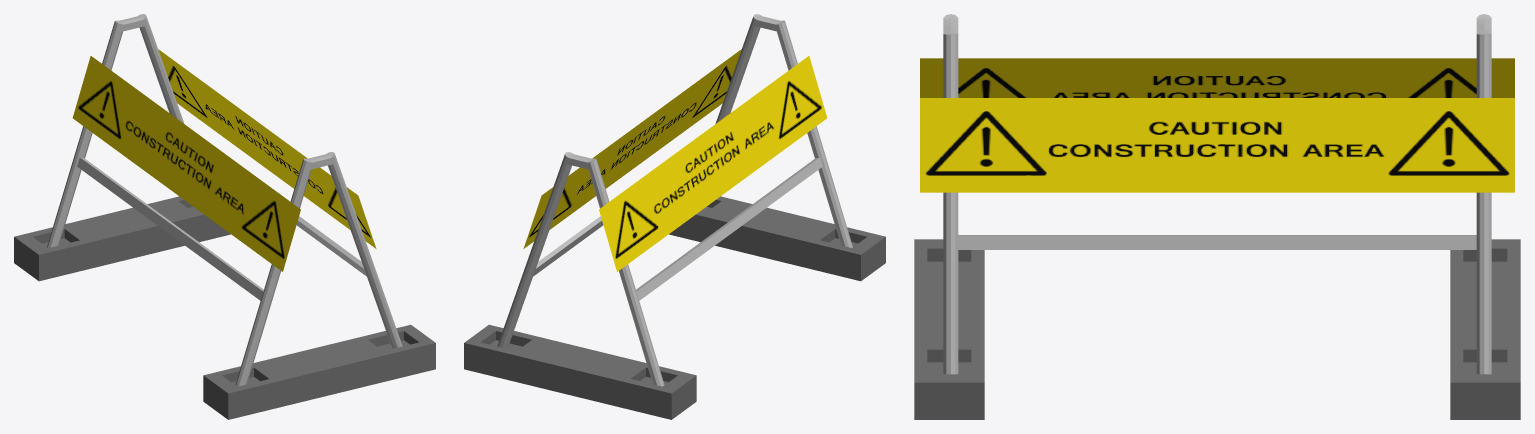
Rendered from absperrung_07.fbx.
The picture shows the model from 3 angles, left to right: view 1: azimuth 30°, elevation 25°; view 2: azimuth 150°, elevation 25°; view 3: azimuth 270°, elevation 25°; orthographic projection. The views are drawn at different scales.
Visible parts, largest first — view 1: pPlane1, gestell, pCube2, pCube1, pPlane2; view 2: pPlane1, gestell, pCube1, pCube2, pPlane2; view 3: pPlane2, pPlane1, gestell, pCube2, pCube1.
Part boxes in pixels (box(x1,y1,x2,y2)): pPlane1: box(72, 56, 300, 271); gestell: box(47, 14, 402, 386); pCube2: box(203, 324, 435, 419); pCube1: box(14, 196, 230, 281); pPlane2: box(158, 49, 376, 248); pPlane1: box(599, 56, 827, 271); gestell: box(497, 14, 852, 386); pCube1: box(464, 324, 696, 419); pCube2: box(669, 196, 885, 281); pPlane2: box(523, 49, 741, 248); pPlane2: box(920, 98, 1514, 192); pPlane1: box(920, 58, 1514, 97); gestell: box(943, 14, 1491, 374); pCube2: box(914, 239, 984, 419); pCube1: box(1450, 239, 1520, 419).
Size of the model in its own units: 3.55 by 3.74 by 6.34.
Materials: 3 (1 with a texture image).
